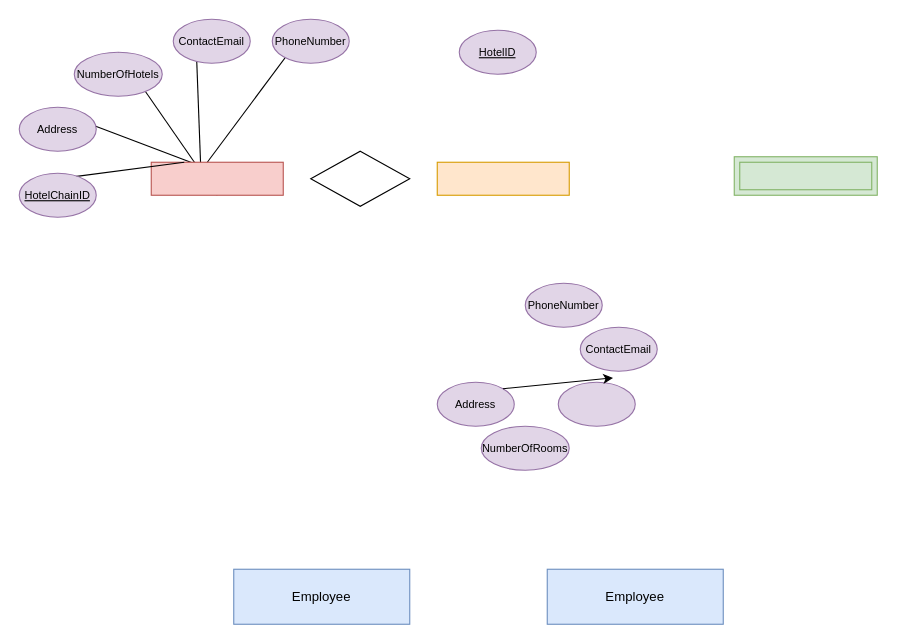
This 897x644 diagram has some shape labels left out. The shapes that lost their labels are listed below. From the top down, each one's box as (x1, y1, x2, y2) in pixels, then its label:
(150, 161, 283, 195): HotelChain
(436, 161, 569, 195): Hotel
(733, 156, 877, 195): Room
(557, 381, 635, 426): Category
